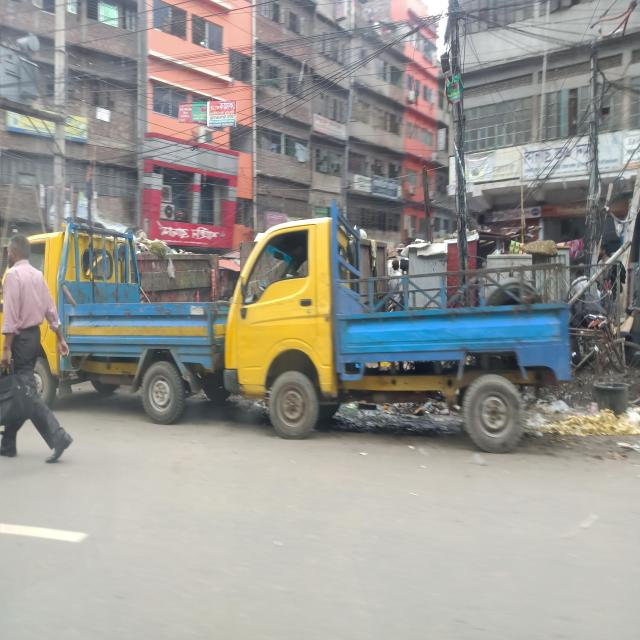truck: (225, 204, 571, 453), (26, 220, 229, 424)
